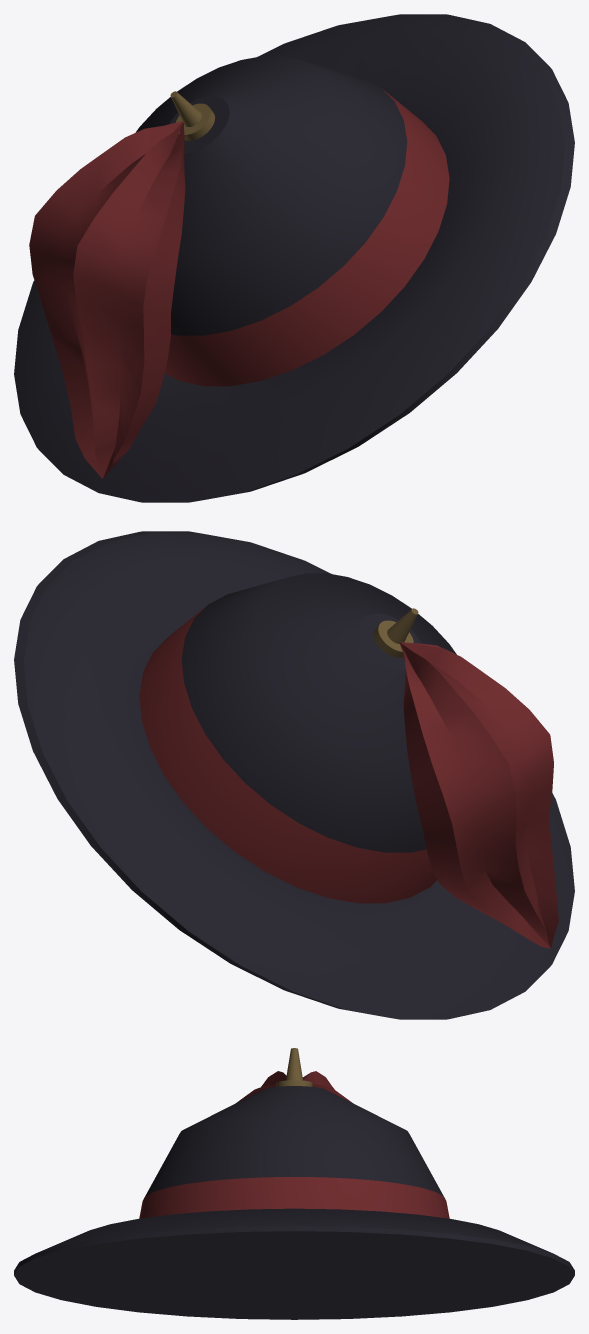
Rendered from sanabi_character_hat.fbx.
The picture shows the model from 3 angles, top to bottom: view 1: azimuth 30°, elevation 25°; view 2: azimuth 150°, elevation 25°; view 3: azimuth 270°, elevation 25°; orthographic projection. The views are drawn at different scales.
Parts seen in each view (by area): view 1: Cylinder, Sphere.001; view 2: Cylinder, Sphere.001; view 3: Cylinder, Sphere.001.
Boxes of the visible parts, left/top/right/bottom form: Cylinder: left=14, top=14, right=574, bottom=502; Sphere.001: left=29, top=121, right=185, bottom=478; Cylinder: left=14, top=531, right=574, bottom=1019; Sphere.001: left=399, top=642, right=558, bottom=948; Cylinder: left=14, top=1048, right=574, bottom=1319; Sphere.001: left=236, top=1071, right=352, bottom=1102.
Size of the model in its own units: 174 by 125 by 200.
